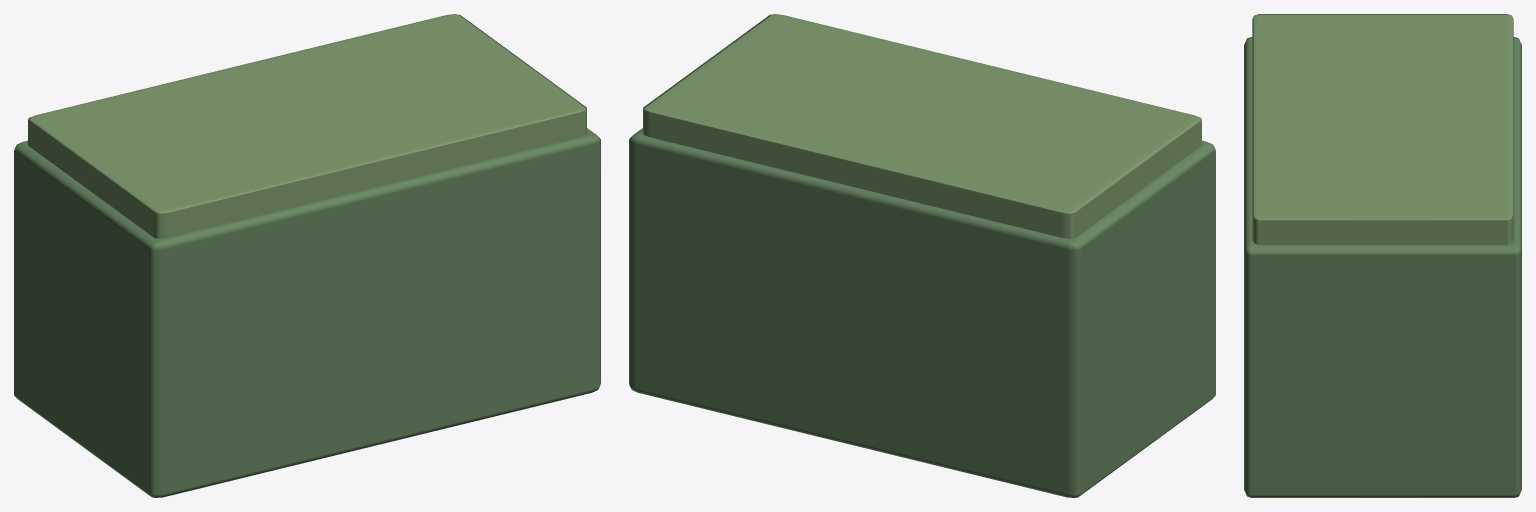
The model's file is hedge-3.glb.
3 views of the same model, side by side, from view 1: azimuth 30°, elevation 25°; view 2: azimuth 150°, elevation 25°; view 3: azimuth 270°, elevation 25° (orthographic). The views are drawn at different scales.
Parts seen in each view (by area): view 1: hedge-3-0; view 2: hedge-3-0; view 3: hedge-3-0.
Boxes of the visible parts, bbox=[...] form: hedge-3-0: bbox=[14, 14, 600, 497]; hedge-3-0: bbox=[629, 14, 1215, 497]; hedge-3-0: bbox=[1244, 14, 1521, 497].
Size of the model in its own units: 0.92 by 0.55 by 0.5.
